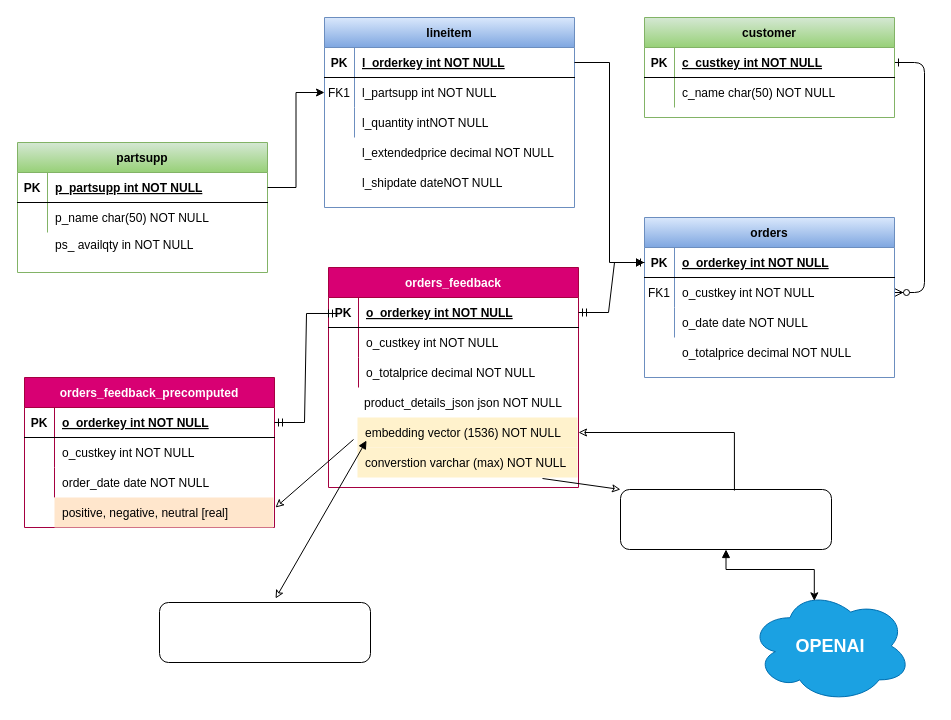
This 951x720 diagram has some shape labels left out. The shapes that lost their labels are listed below. From the top down, each one's centre as x and y in pixels, then its label:
the point at 726,519: get_embeddings
the point at 264,632: vector_search
